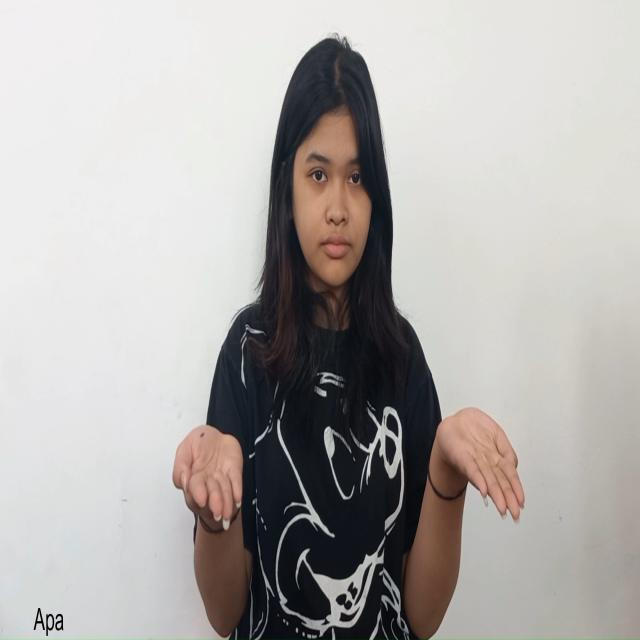Apa -BISINDO-: (170, 403, 532, 535)
